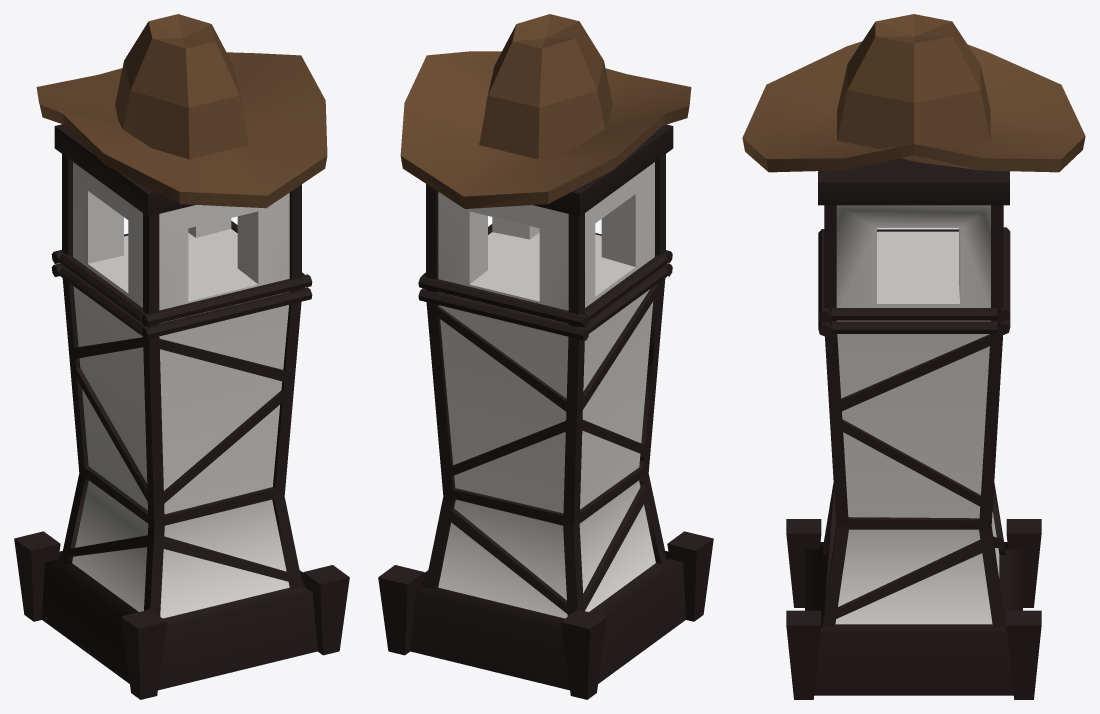
Rendered from cowboy_tower.fbx.
The picture shows the model from 3 angles, left to right: view 1: azimuth 30°, elevation 25°; view 2: azimuth 150°, elevation 25°; view 3: azimuth 270°, elevation 25°; orthographic projection. The views are drawn at different scales.
Parts seen in each view (by area): view 1: tower2:pCube6, tower2:pCube24, pCube15; view 2: tower2:pCube6, tower2:pCube24, pCube15; view 3: tower2:pCube6, pCube15, tower2:pCube24.
Boxes of the visible parts, box(x1,y1,x2,y2) form: tower2:pCube6: box(42, 124, 317, 690); tower2:pCube24: box(14, 154, 349, 699); pCube15: box(36, 14, 327, 208); tower2:pCube6: box(410, 124, 685, 690); tower2:pCube24: box(378, 154, 713, 699); pCube15: box(400, 14, 691, 208); tower2:pCube6: box(805, 158, 1022, 695); pCube15: box(742, 14, 1085, 172); tower2:pCube24: box(786, 205, 1041, 699).
Bounding box in the file's own units: 6.87 × 16.57 × 8.3.
